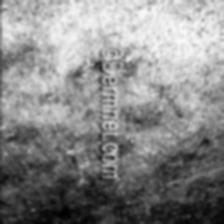Potentially Malignant Skin Tumors: (0, 62, 94, 182), (125, 58, 185, 167)
